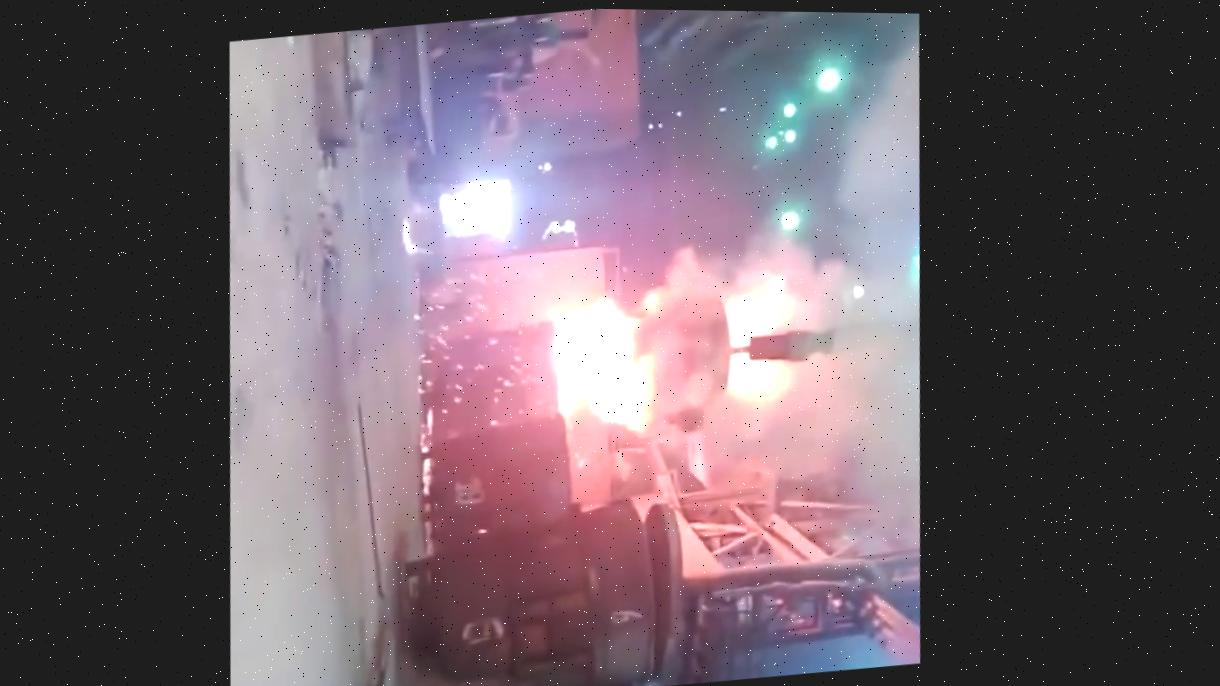fire: (466, 77, 892, 505)
